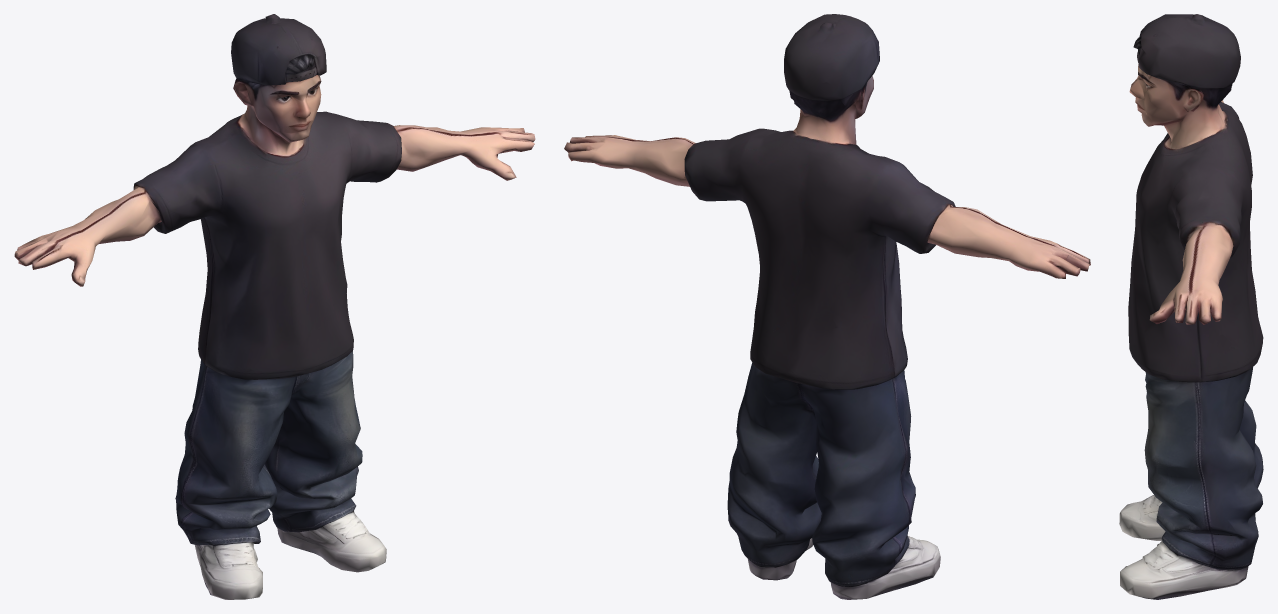
File: hero_tripo.glb
3 renders of one model, left to right at view 1: azimuth 30°, elevation 25°; view 2: azimuth 150°, elevation 25°; view 3: azimuth 270°, elevation 25°, orthographic.
Parts seen in each view (by area): view 1: tripo_node_0159d5cc-aae6-4824-8568-cc2b0d6460ee; view 2: tripo_node_0159d5cc-aae6-4824-8568-cc2b0d6460ee; view 3: tripo_node_0159d5cc-aae6-4824-8568-cc2b0d6460ee.
Boxes of the visible parts, bbox=[...] form: tripo_node_0159d5cc-aae6-4824-8568-cc2b0d6460ee: bbox=[14, 14, 535, 599]; tripo_node_0159d5cc-aae6-4824-8568-cc2b0d6460ee: bbox=[564, 14, 1090, 599]; tripo_node_0159d5cc-aae6-4824-8568-cc2b0d6460ee: bbox=[1119, 14, 1263, 599].
Bounding box in the file's own units: 0.986 × 1 × 0.2396.
Materials: 1 (1 with a texture image).
